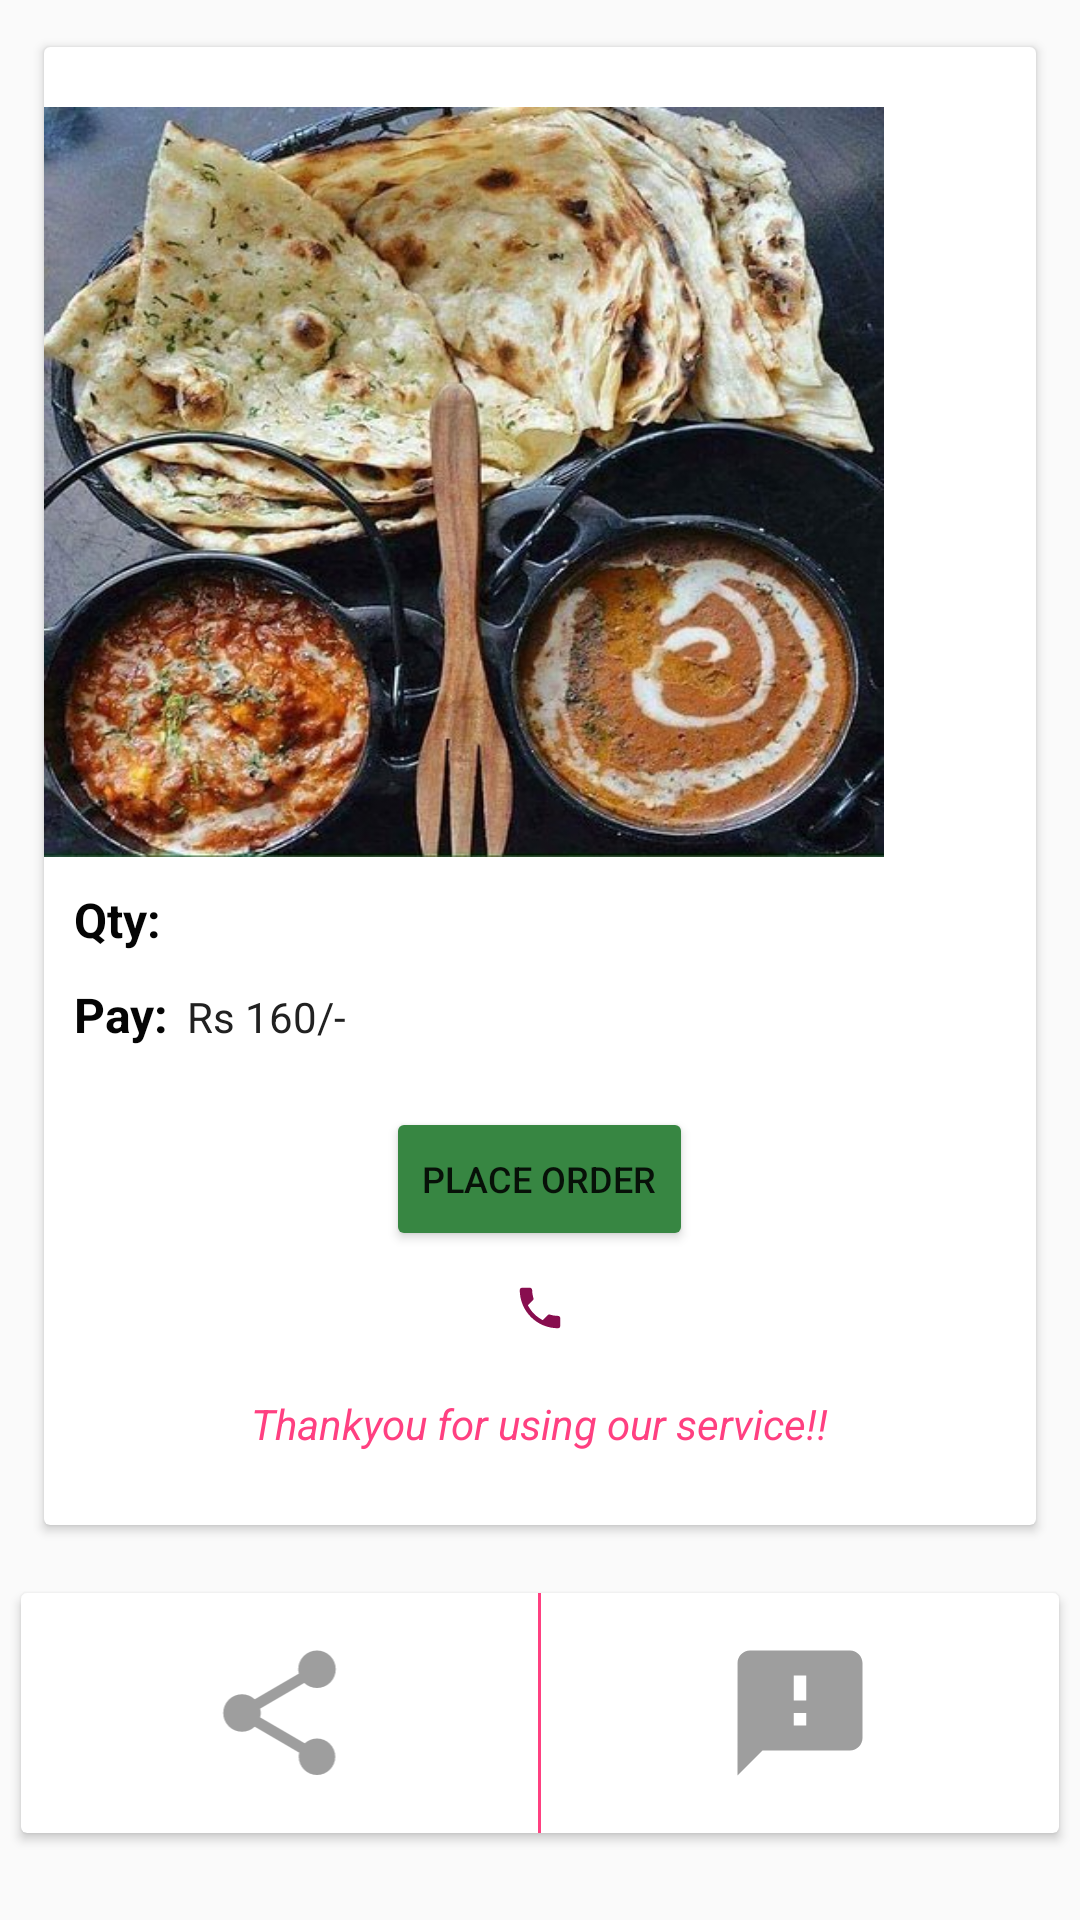

Icons on this 1080x1920 Android screen, each with its box as (x1, y1, x2, y2):
call: (519, 1287, 561, 1329)
feedback: (737, 1650, 863, 1775)
share: (223, 1650, 336, 1775)
